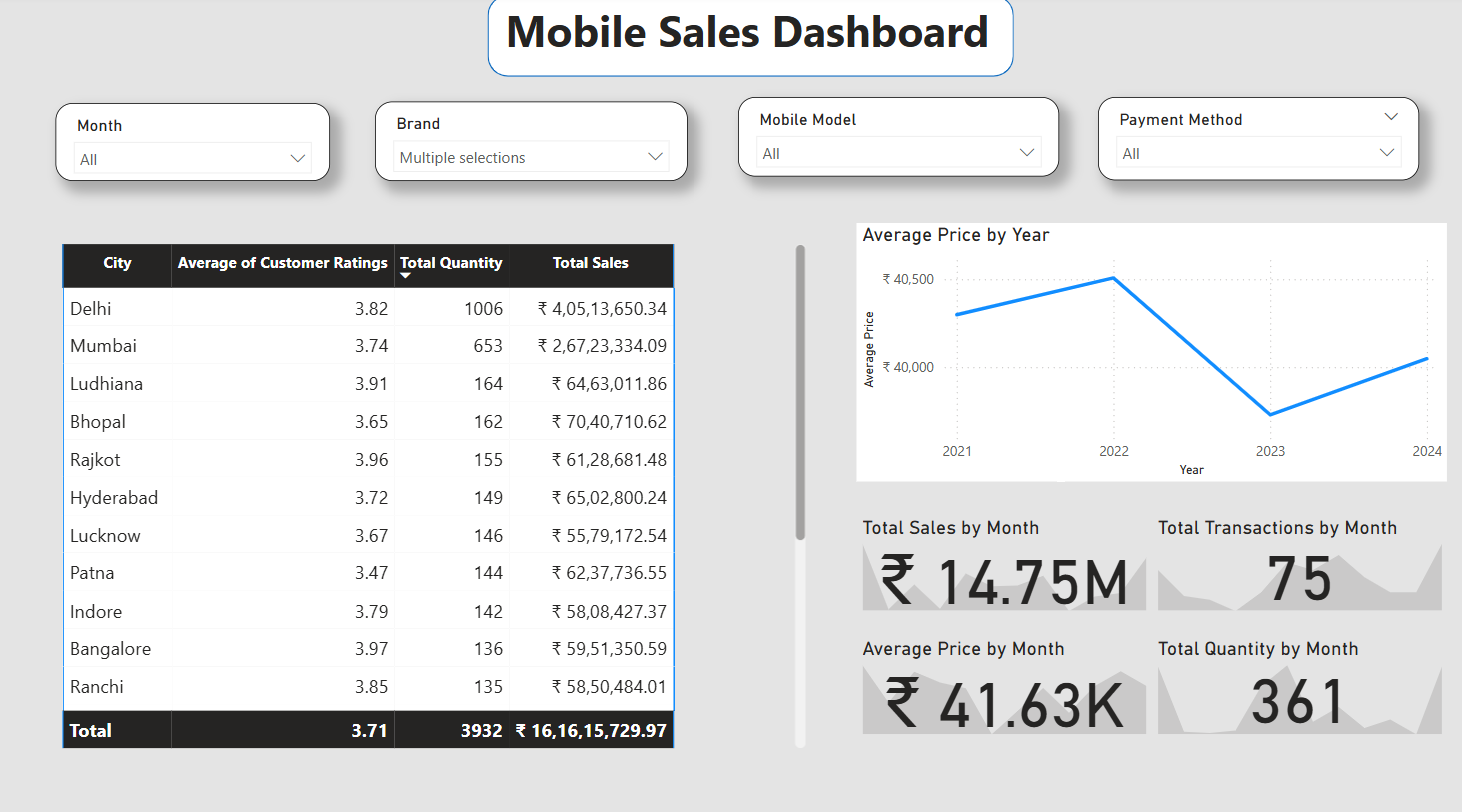

This screenshot's page, from the dashboard's own definition file:
{"tool":"powerbi","page":{"name":"Dashboard","canvas":[1280,720],"ordinal":0},"visuals":[{"type":"shape","box":[427,0,458.8,71.2],"z":0},{"type":"textbox","box":[437.6,0,698,301.3],"z":1000},{"type":"slicer","fields":{"Values":["Custom Calender.Date.Variation.Date Hierarchy.Month"]},"box":[51.5,93.9,239.2,68.1],"z":2000},{"type":"slicer","fields":{"Values":["Mobile_Sales_Data.Brand"]},"box":[330.1,92.4,272.6,69.7],"z":3000},{"type":"lineChart","fields":{"Category":["Custom Calender.Date.Variation.Date Hierarchy.Year"],"Y":["Mobile_Sales_Data.Average Price"]},"box":[749.5,198.4,514.8,225.6],"z":4000},{"type":"tableEx","fields":{"Values":["Mobile_Sales_Data.City","Avg(Mobile_Sales_Data.Customer Ratings)","Mobile_Sales_Data.Total Quantity","Mobile_Sales_Data.Total Sales"]},"box":[51.5,212,658.7,449.7],"z":5000},{"type":"slicer","fields":{"Values":["Mobile_Sales_Data.Mobile Model"]},"box":[646.6,89.3,280.1,69.7],"z":6000},{"type":"slicer","fields":{"Values":["Mobile_Sales_Data.Payment Method"]},"box":[960,89.3,280.1,72.7],"z":7000},{"type":"kpi","fields":{"Indicator":["Mobile_Sales_Data.Total Sales"],"TrendLine":["Custom Calender.Date.Variation.Date Hierarchy.Month"]},"box":[749.5,454.3,257.4,87.8],"z":8000},{"type":"kpi","fields":{"Indicator":["Mobile_Sales_Data.Total Transactions"],"TrendLine":["Custom Calender.Date.Variation.Date Hierarchy.Month"]},"box":[1006.9,454.3,257.4,87.8],"z":9000},{"type":"kpi","fields":{"Indicator":["Mobile_Sales_Data.Average Price"],"TrendLine":["Custom Calender.Date.Variation.Date Hierarchy.Month"]},"box":[749.5,560.3,257.4,89.3],"z":10000},{"type":"kpi","fields":{"Indicator":["Mobile_Sales_Data.Total Quantity"],"TrendLine":["Custom Calender.Date.Variation.Date Hierarchy.Month"]},"box":[1006.9,560.3,257.4,89.3],"z":11000}]}

Visuals, with their boxes in screenshot pixels (x1, y1, x2, y2), scaled from the page's 1280x720 canvas onto the 1462x812 screenshot:
shape: region(488, 0, 1012, 80)
textbox: region(500, 0, 1297, 340)
slicer - Custom Calender.Date.Variation.Date Hierarchy.Month: region(59, 106, 332, 183)
slicer - Mobile_Sales_Data.Brand: region(377, 104, 688, 183)
lineChart - Custom Calender.Date.Variation.Date Hierarchy.Year x Mobile_Sales_Data.Average Price: region(856, 224, 1444, 478)
tableEx - Mobile_Sales_Data.City x Avg(Mobile_Sales_Data.Customer Ratings): region(59, 239, 811, 746)
slicer - Mobile_Sales_Data.Mobile Model: region(739, 101, 1058, 179)
slicer - Mobile_Sales_Data.Payment Method: region(1096, 101, 1416, 183)
kpi - Mobile_Sales_Data.Total Sales x Custom Calender.Date.Variation.Date Hierarchy.Month: region(856, 512, 1150, 611)
kpi - Mobile_Sales_Data.Total Transactions x Custom Calender.Date.Variation.Date Hierarchy.Month: region(1150, 512, 1444, 611)
kpi - Mobile_Sales_Data.Average Price x Custom Calender.Date.Variation.Date Hierarchy.Month: region(856, 632, 1150, 733)
kpi - Mobile_Sales_Data.Total Quantity x Custom Calender.Date.Variation.Date Hierarchy.Month: region(1150, 632, 1444, 733)
